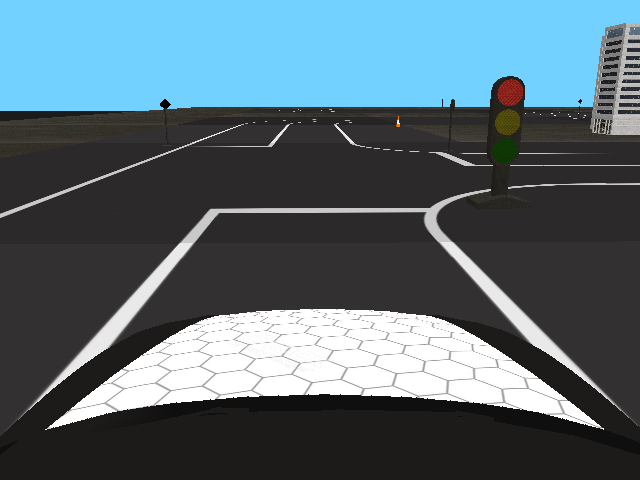red_light: (488, 76, 525, 166)
